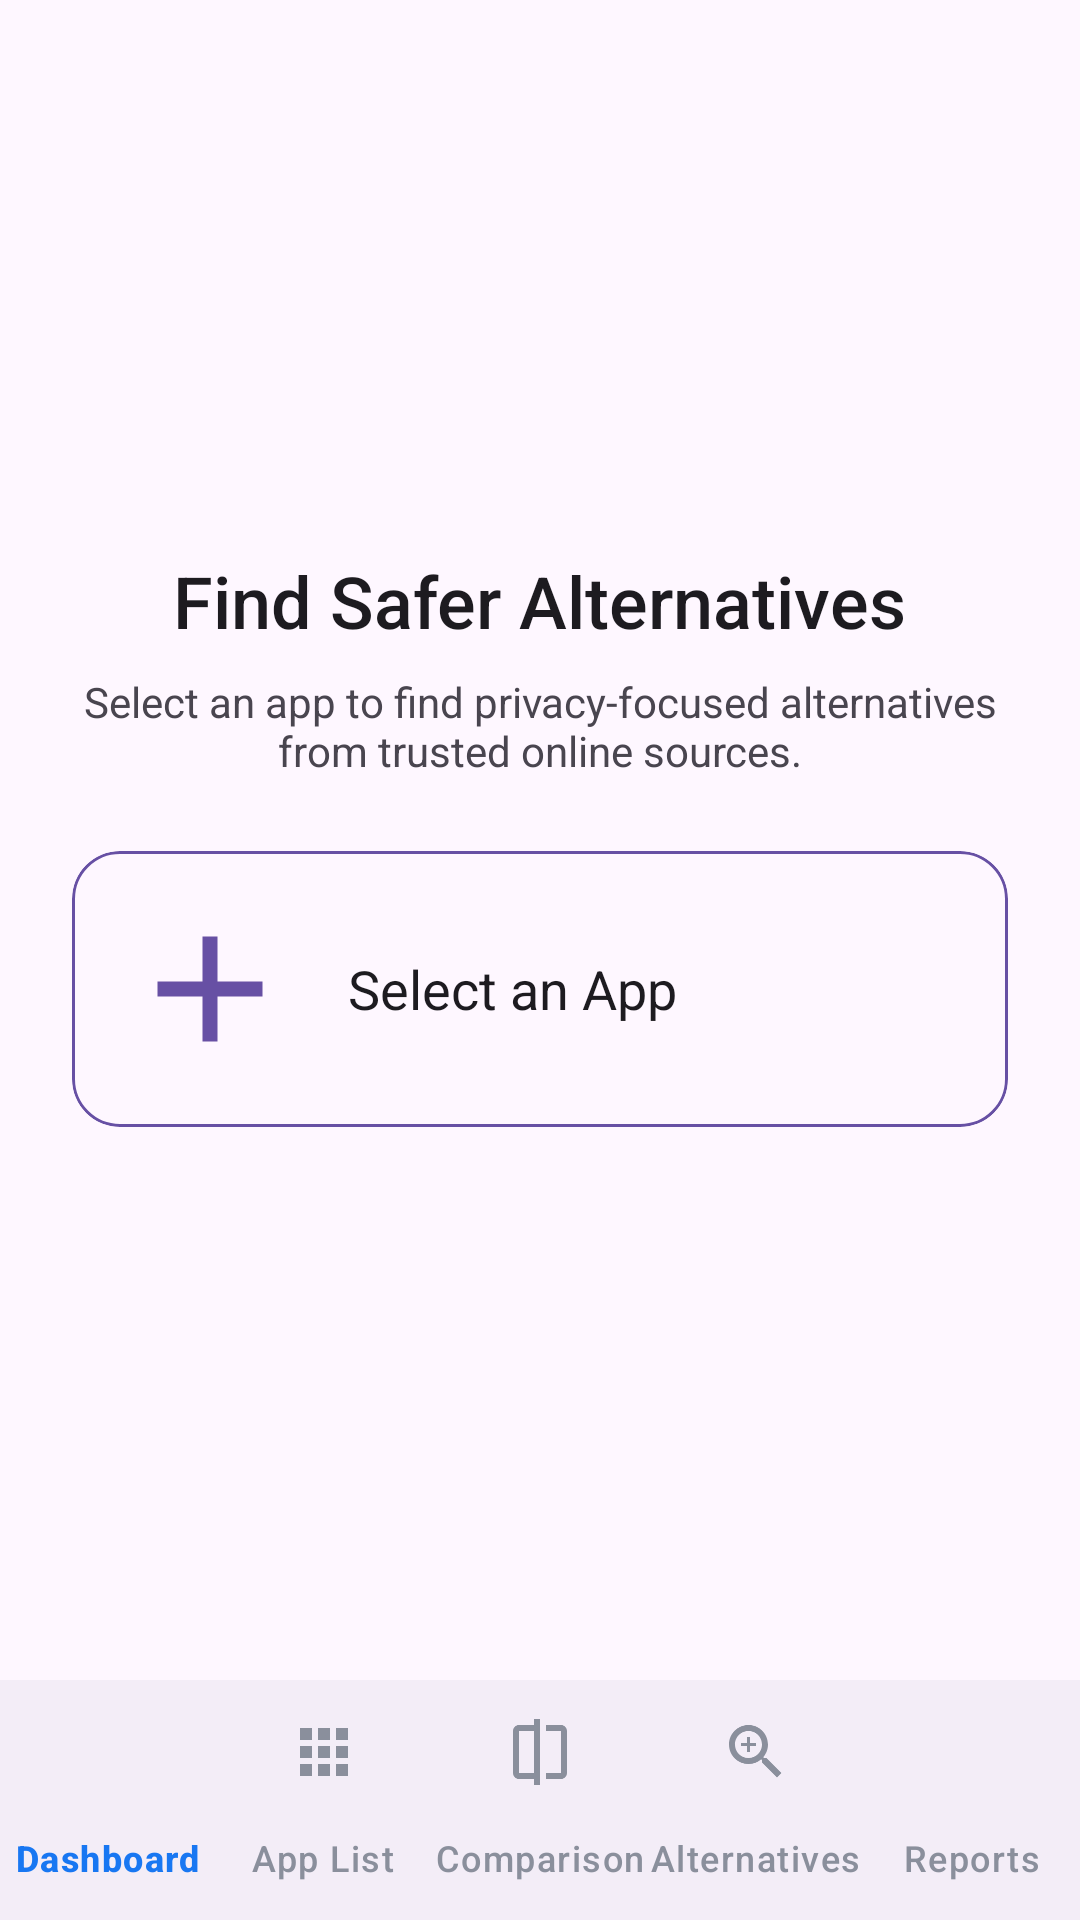

Point at icon controls on the screen. Image size 1080x1920, points as point (x, y).
add: point (210, 989)
